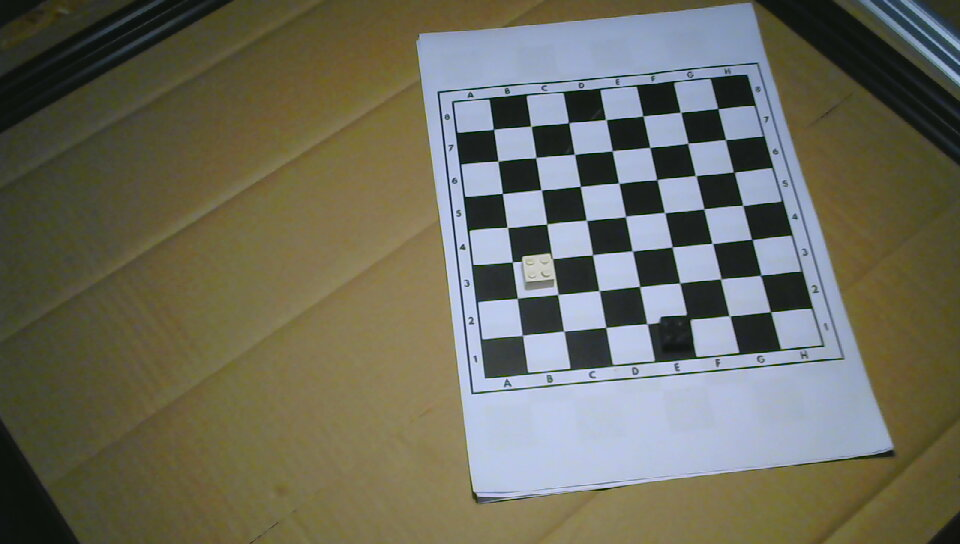bp: (658, 313, 694, 354)
wp: (521, 252, 556, 292)
